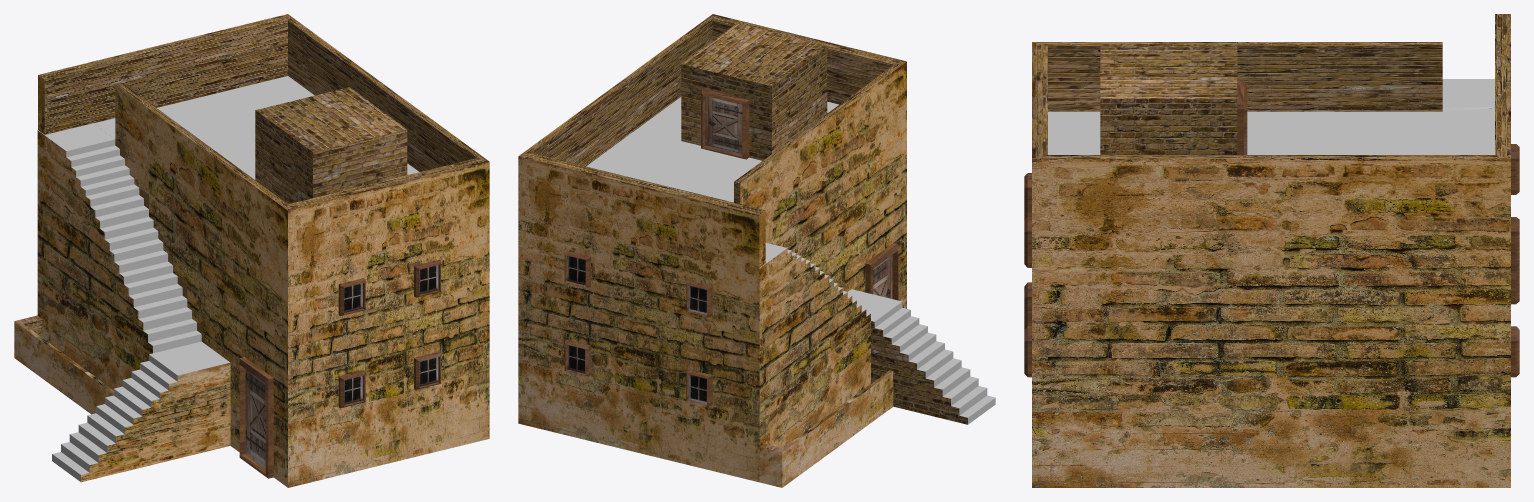
File: sumerian_house.fbx
3 renders of one model, left to right at view 1: azimuth 30°, elevation 25°; view 2: azimuth 150°, elevation 25°; view 3: azimuth 270°, elevation 25°, orthographic. The views are drawn at different scales.
Visible parts, largest first — view 1: Cube; view 2: Cube; view 3: Cube.
Part boxes in pixels (<box>): Cube: <box>14,14,489,487</box>; Cube: <box>518,14,995,487</box>; Cube: <box>1024,14,1519,487</box>.
Size of the model in its own units: 1400 by 1149 by 1440.
